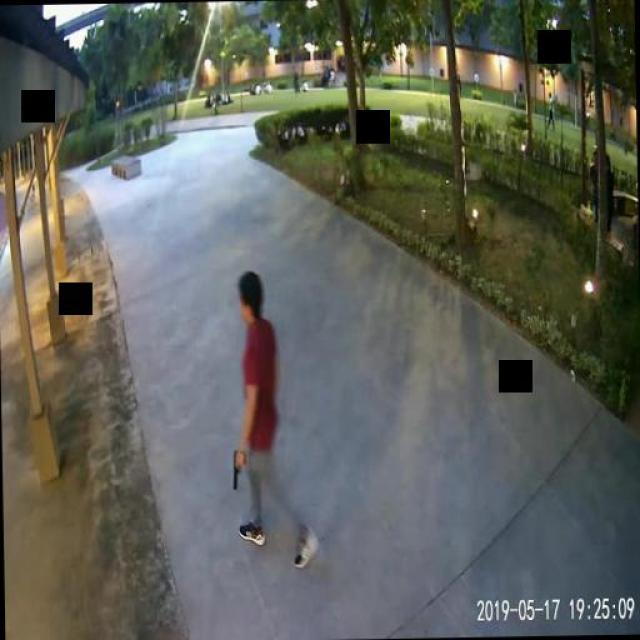gun: (230, 446, 246, 489)
